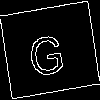G: (25, 25, 67, 78)
